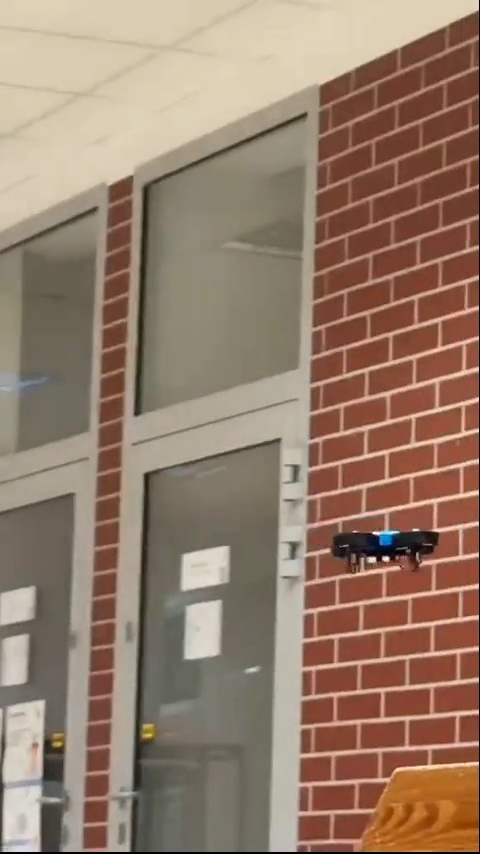drone: (331, 530, 439, 572)
